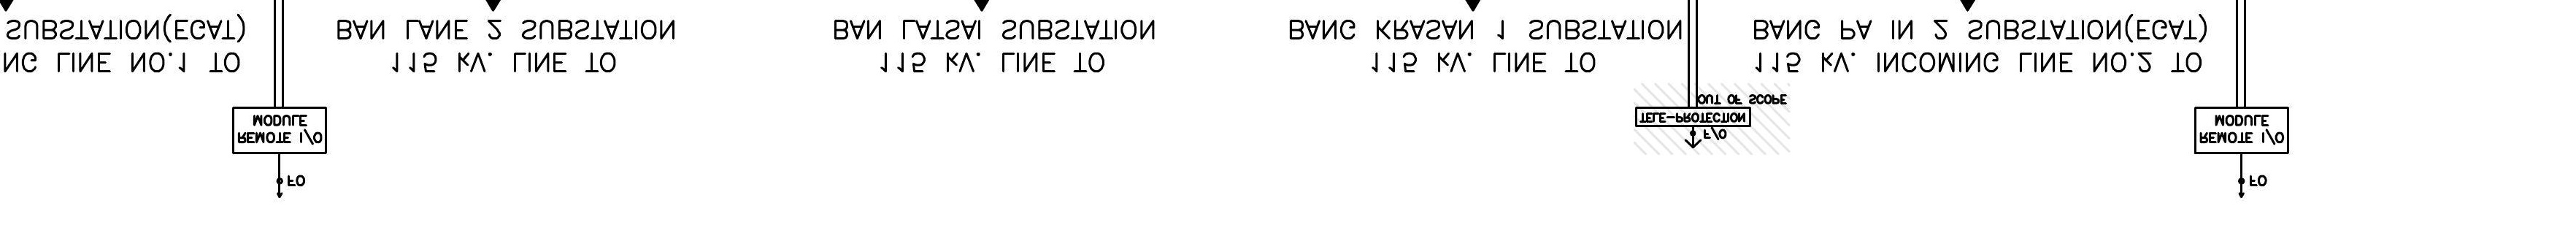remote_io_module: (232, 105, 327, 155), (2193, 107, 2290, 155)
tele_protection: (1635, 105, 1751, 127)
